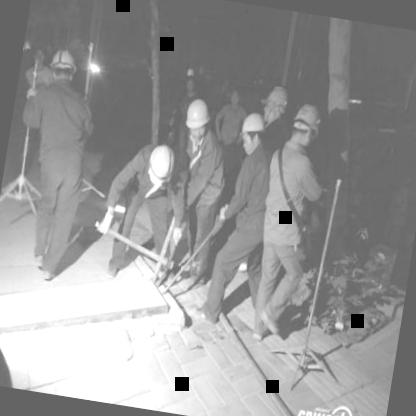helmet: (139, 138, 179, 192), (179, 92, 214, 146), (287, 100, 322, 149), (235, 110, 266, 155), (46, 45, 77, 90), (259, 84, 290, 129)
